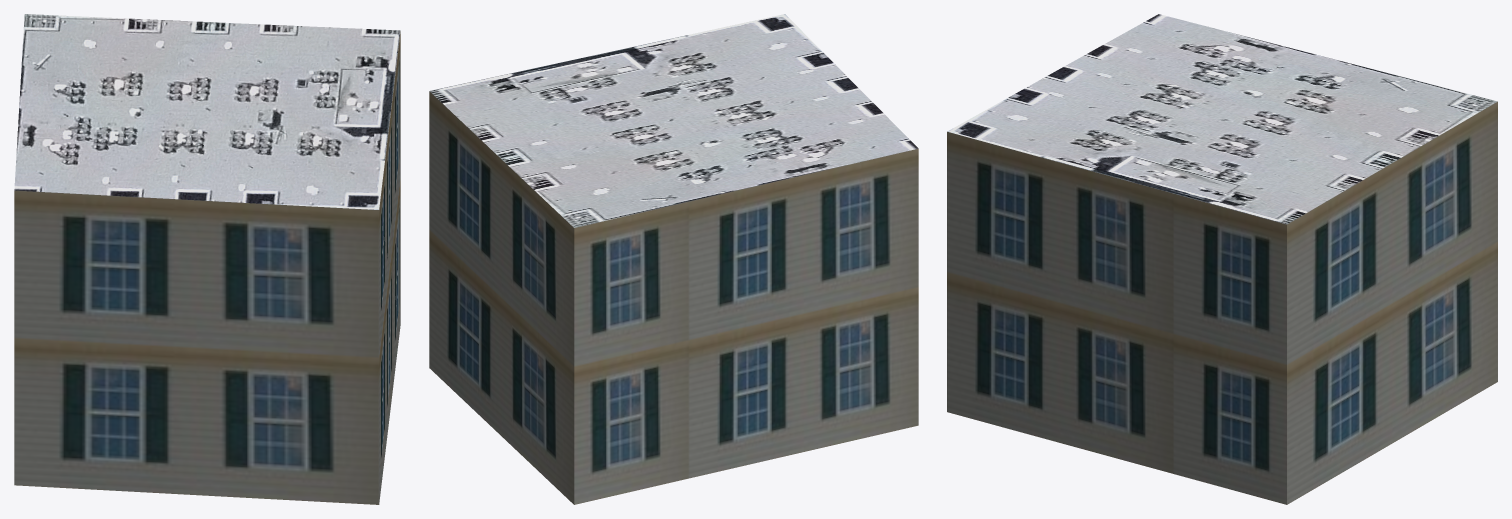
File: ResTex__4936.fbx
3 views of the same model, side by side, from view 1: azimuth 30°, elevation 25°; view 2: azimuth 150°, elevation 25°; view 3: azimuth 270°, elevation 25° (orthographic). The views are drawn at different scales.
Visible parts, largest first — view 1: CityEngineMaterial_7_m, CityEngineMaterial_m; view 2: CityEngineMaterial_7_m, CityEngineMaterial_m; view 3: CityEngineMaterial_7_m, CityEngineMaterial_m.
Part boxes in pixels (box(x1,y1,x2,y2)): CityEngineMaterial_7_m: box(14, 31, 400, 504); CityEngineMaterial_m: box(14, 14, 400, 209); CityEngineMaterial_7_m: box(429, 91, 918, 504); CityEngineMaterial_m: box(429, 14, 918, 227); CityEngineMaterial_7_m: box(947, 101, 1497, 504); CityEngineMaterial_m: box(947, 14, 1497, 224).
Size of the model in its own units: 9.66 by 6 by 10.68.
2 materials, 2 textured.
